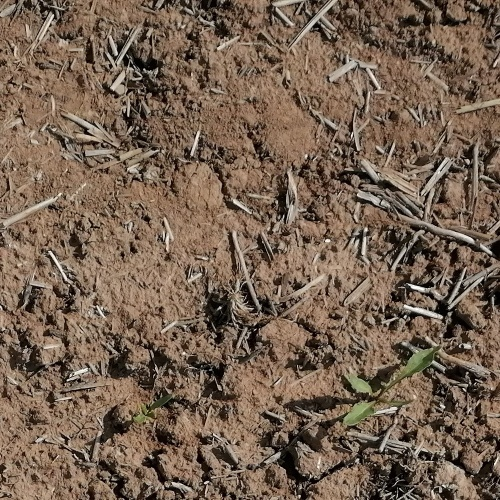beet: (341, 345, 442, 429), (130, 392, 174, 423)
